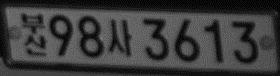1: (202, 18, 229, 62)
3: (142, 17, 170, 60), (231, 21, 259, 62)
6: (174, 18, 201, 63)
8: (77, 14, 104, 57)
9: (48, 13, 74, 55)
부산_V: (20, 12, 47, 56)
사: (107, 18, 132, 56)
